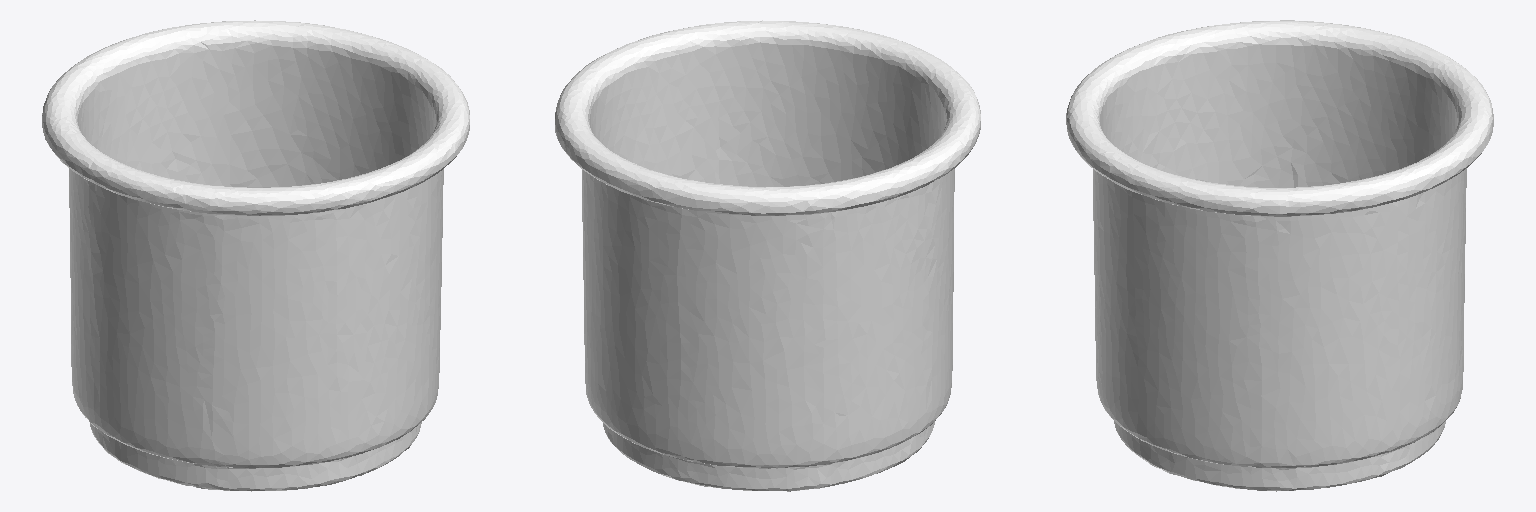
URDF robot description (028_skillet_lid):
<robot name="028_skillet_lid">
	<link name="_name">
		<visual>
			<origin xyz="-0.04614896458822956 -0.28319651848624067 -0.2009889767674283" rpy="0 0 0" />
			<geometry>
				<mesh filename="028_skillet_lid/google_16k/textured.obj" scale="10 10 10" />
			</geometry>
			<material name="texture">
				<color rgba="1.0 1.0 1.0 1.0" />
			</material>
		</visual>
		<collision>
			<geometry>
				<mesh filename="028_skillet_lid/google_16k/textured_vhacd.obj" scale="10 10 10" />
			</geometry>
		<origin xyz="-0.04614896458822956 -0.28319651848624067 -0.2009889767674283" rpy="0 0 0" /></collision>
		<inertial>
			<mass value="1.0" />
			<inertia ixx="1.0" ixy="0.0" ixz="0.0" iyy="1.0" iyz="0.0" izz="1.0" />
		</inertial>
	</link>
</robot>

--- Facts derived from the render (not from the file) ---
Views: 3 orthographic renders of the robot side by side, from view 1: azimuth 30°, elevation 25°; view 2: azimuth 150°, elevation 25°; view 3: azimuth 270°, elevation 25°.
Robot: 028_skillet_lid — 1 links, 0 joints (none); root link _name; default pose: every joint at zero.
Visible links, largest first — view 1: _name; view 2: _name; view 3: _name.
Boxes of the visible links, left/top/right/bottom form: _name: left=42, top=20, right=469, bottom=491; _name: left=555, top=20, right=980, bottom=491; _name: left=1066, top=20, right=1493, bottom=491.
Size in the robot's own frame: 0.915 by 0.9162 by 0.7506 metres.
1 mesh visuals loaded from 1 distinct referenced files (1 OBJ).